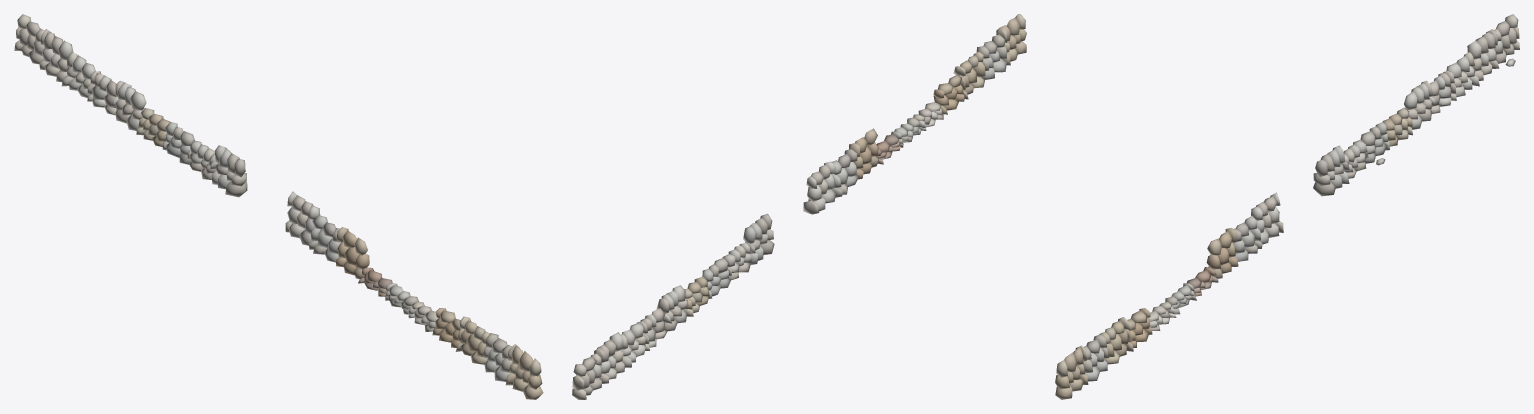
Rendered from farm_4_-7_near.glb.
3 renders of one model, left to right at view 1: azimuth 30°, elevation 25°; view 2: azimuth 150°, elevation 25°; view 3: azimuth 330°, elevation 25°, orthographic. The views are drawn at different scales.
Parts seen in each view (by area): view 1: geometry_0; view 2: geometry_0; view 3: geometry_0.
Part boxes in pixels (box(x1,y1,x2,y2)): geometry_0: box(14, 14, 543, 399); geometry_0: box(572, 14, 1026, 399); geometry_0: box(1055, 14, 1519, 399).
Bounding box in the file's own units: 1.61 × 1.66 × 32.37.
